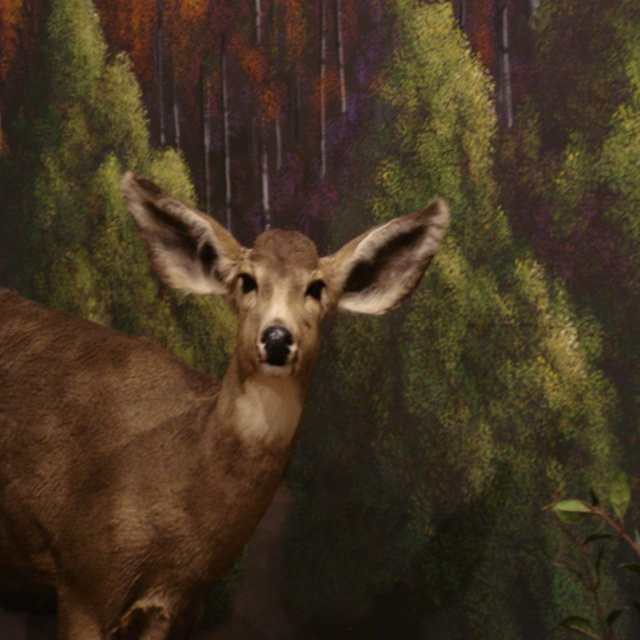Deer: (0, 178, 447, 639)
